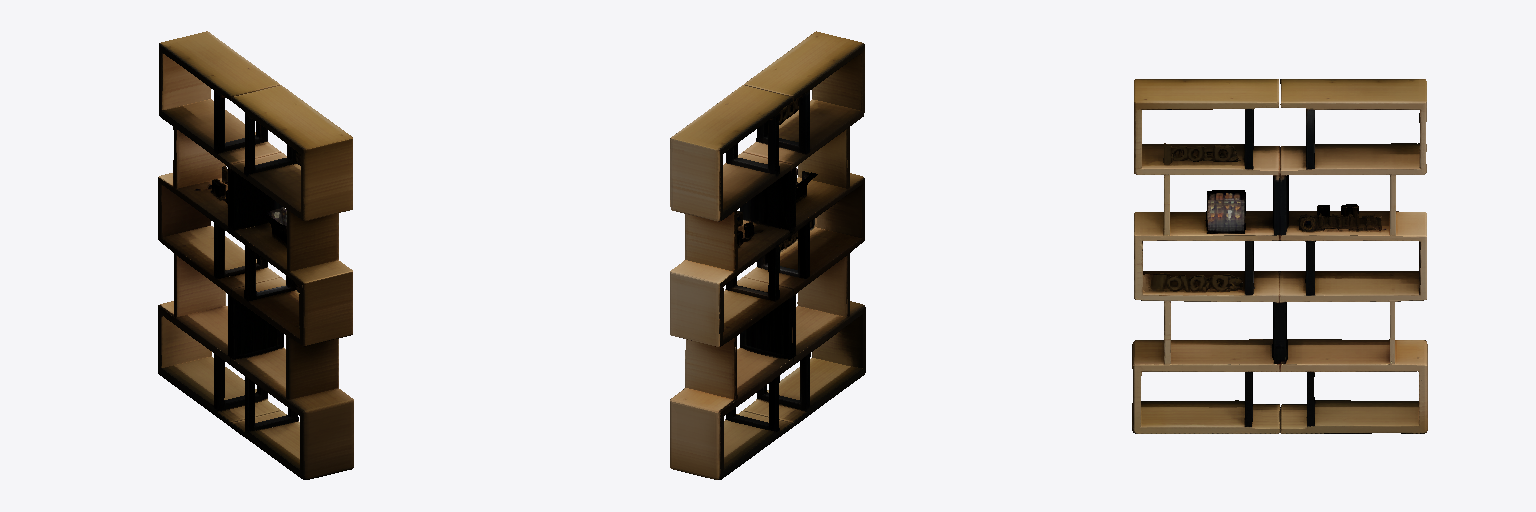
3 renders of one model, left to right at view 1: azimuth 30°, elevation 25°; view 2: azimuth 150°, elevation 25°; view 3: azimuth 270°, elevation 25°, orthographic.
Visible parts, largest first — view 1: geometry_0; view 2: geometry_0; view 3: geometry_0.
Part boxes in pixels (x1,y1,x2,y2): geometry_0: (158, 31, 353, 479); geometry_0: (670, 31, 865, 479); geometry_0: (1132, 79, 1427, 433).
Size of the model in its own units: 0.1628 by 1 by 0.8093.
1 materials, 1 textured.